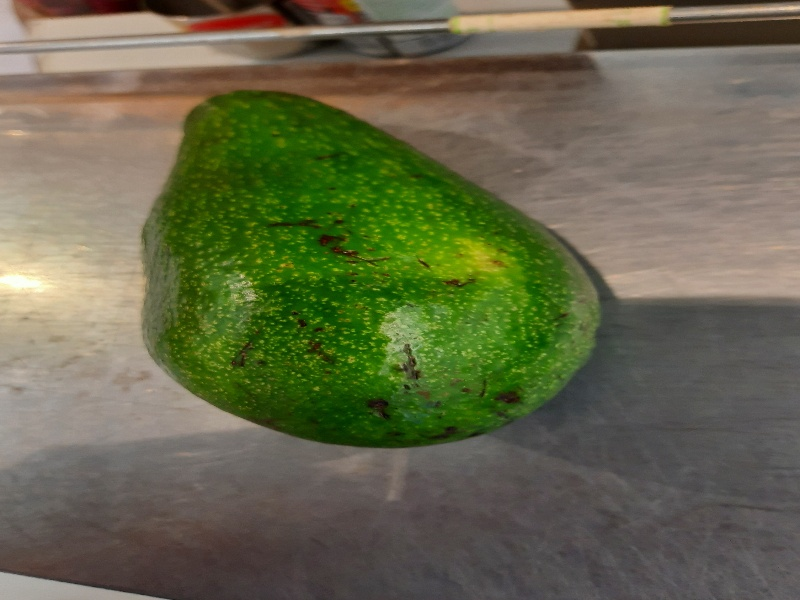fruit: (137, 87, 607, 455)
